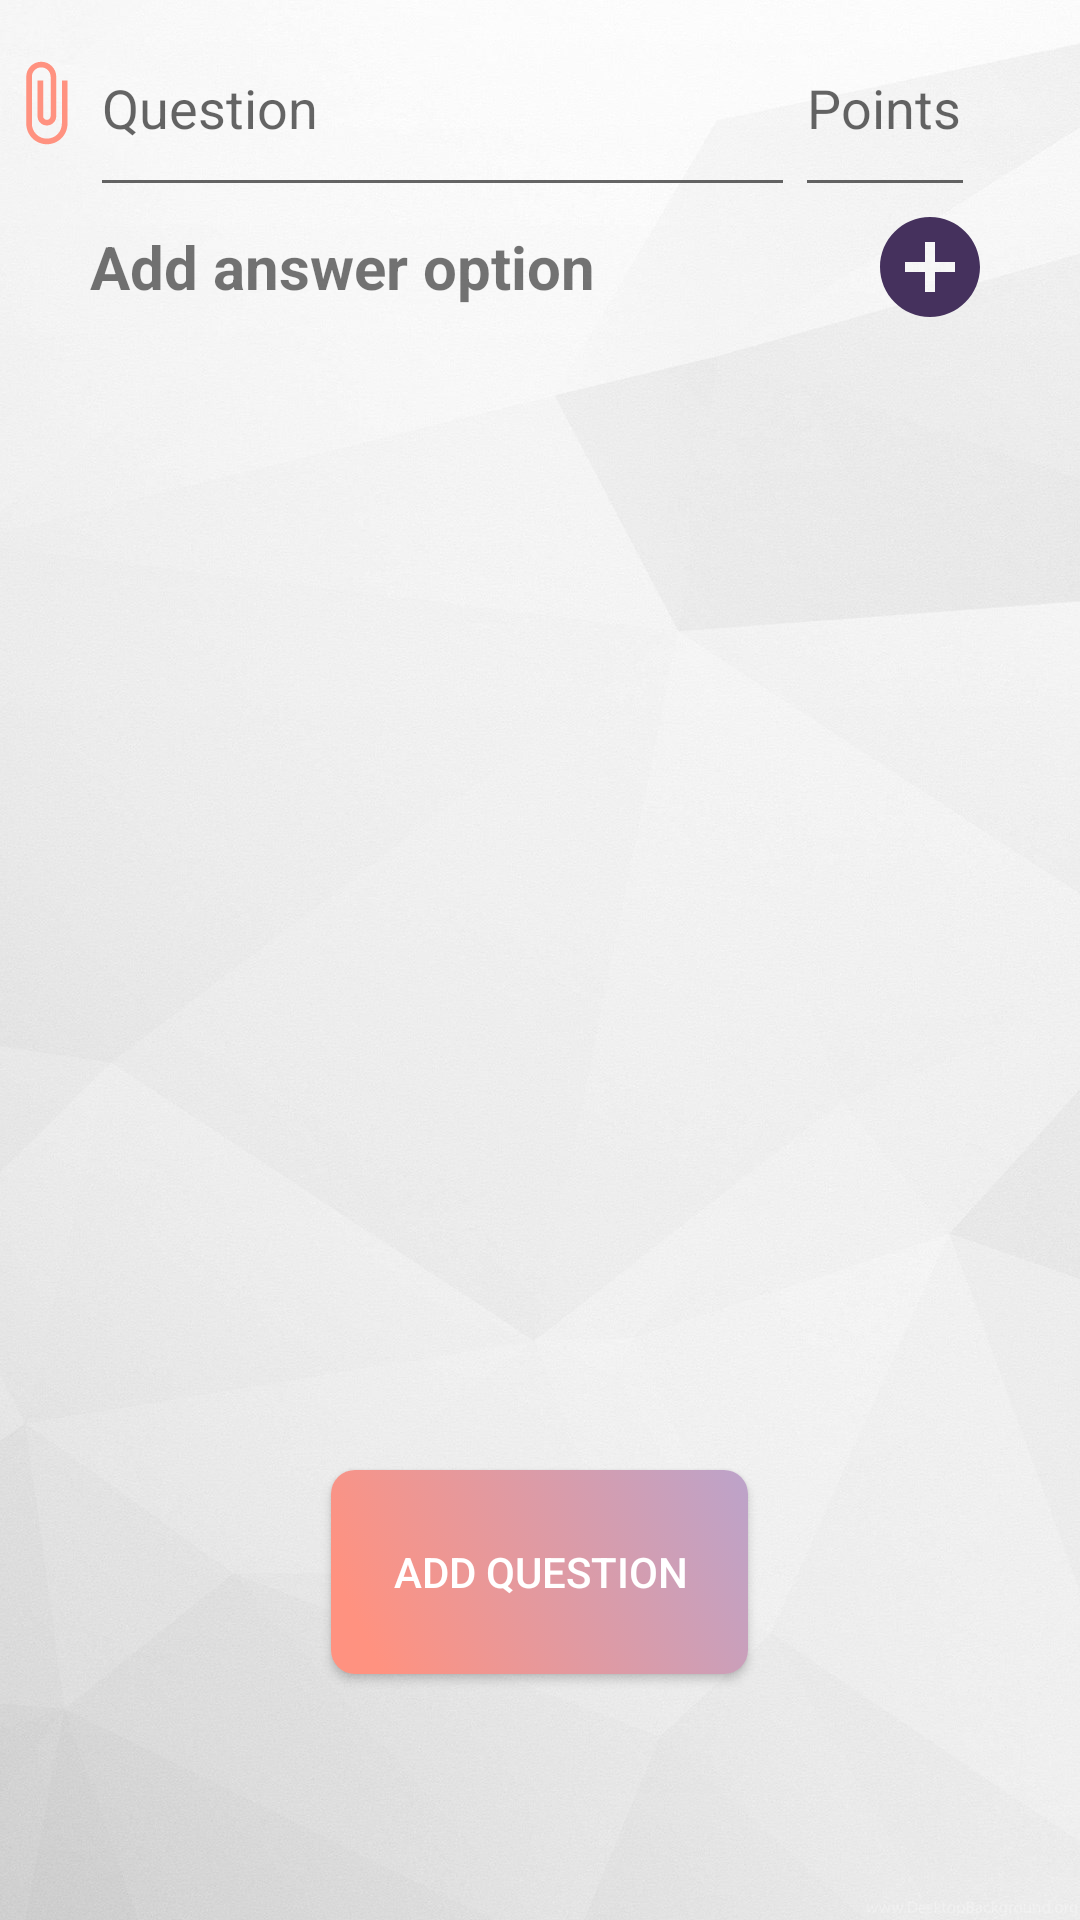

Point at icon controls on the screen. Image size 1080*1920, points as point (x, y).
add circle: point (930, 267)
attach file: point (47, 103)
